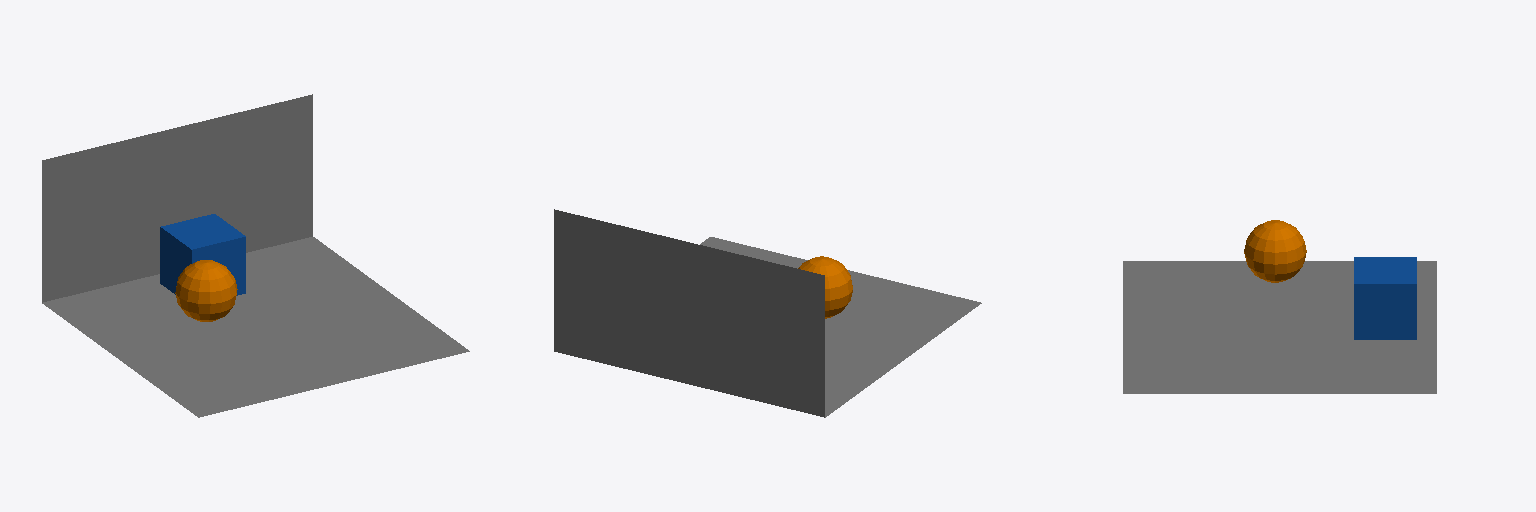
File: exampleBlend.obj
The picture shows the model from 3 angles: view 1: azimuth 30°, elevation 25°; view 2: azimuth 150°, elevation 25°; view 3: azimuth 270°, elevation 25°; orthographic projection.
Visible parts, largest first — view 1: Cube_Cube.001; view 2: Cube_Cube.001; view 3: Cube_Cube.001.
Boxes of the visible parts, x1,y1,x2,y2 form: Cube_Cube.001: [42, 94, 469, 417]; Cube_Cube.001: [554, 209, 981, 417]; Cube_Cube.001: [1123, 220, 1436, 393].
Size of the model in its own units: 4 by 2 by 4.